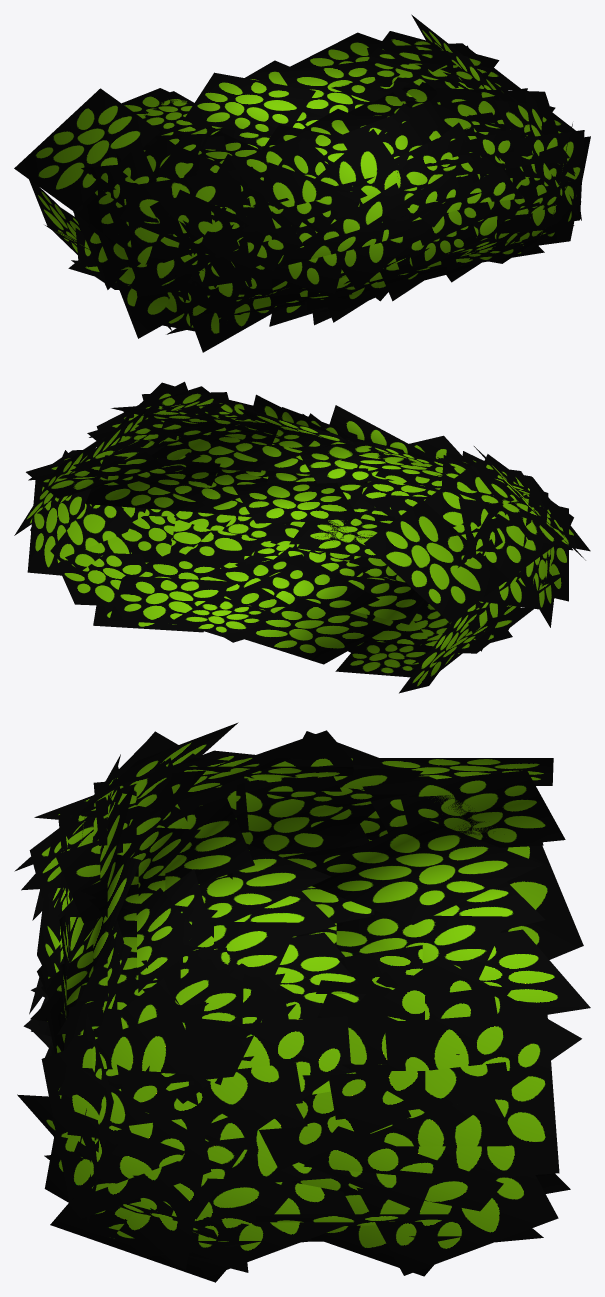
The model's file is Bush_Large.glb.
3 views of the same model, one above another, from view 1: azimuth 30°, elevation 25°; view 2: azimuth 150°, elevation 25°; view 3: azimuth 270°, elevation 25° (orthographic). The views are drawn at different scales.
Parts seen in each view (by area): view 1: Bush_Large; view 2: Bush_Large; view 3: Bush_Large.
Part boxes in pixels (bbox=[...]): Bush_Large: bbox=[14, 14, 590, 352]; Bush_Large: bbox=[14, 381, 590, 693]; Bush_Large: bbox=[14, 722, 590, 1282].
Size of the model in its own units: 1.9 by 0.7238 by 1.22.
Materials: 1 (1 with a texture image).
